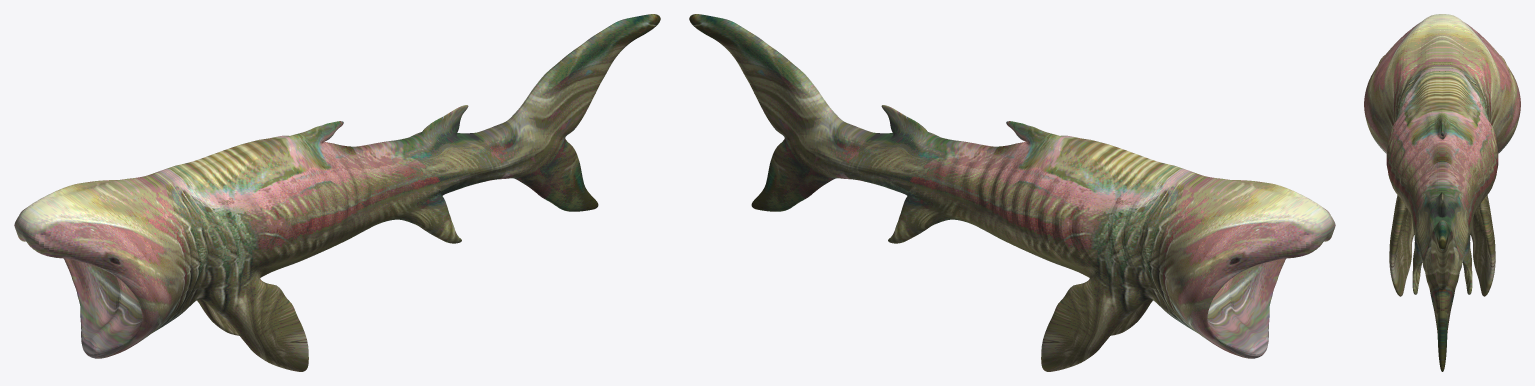
Rendered from sleepershark.glb.
3 renders of one model, left to right at view 1: azimuth 30°, elevation 25°; view 2: azimuth 150°, elevation 25°; view 3: azimuth 270°, elevation 25°, orthographic. The views are drawn at different scales.
Visible parts, largest first — view 1: sleepershark; view 2: sleepershark; view 3: sleepershark.
Boxes of the visible parts, x1,y1,x2,y2 form: sleepershark: (14,14,660,371); sleepershark: (689,14,1335,371); sleepershark: (1364,14,1520,371).
Size of the model in its own units: 15.47 by 5.79 by 3.75.
1 material, 1 textured.
